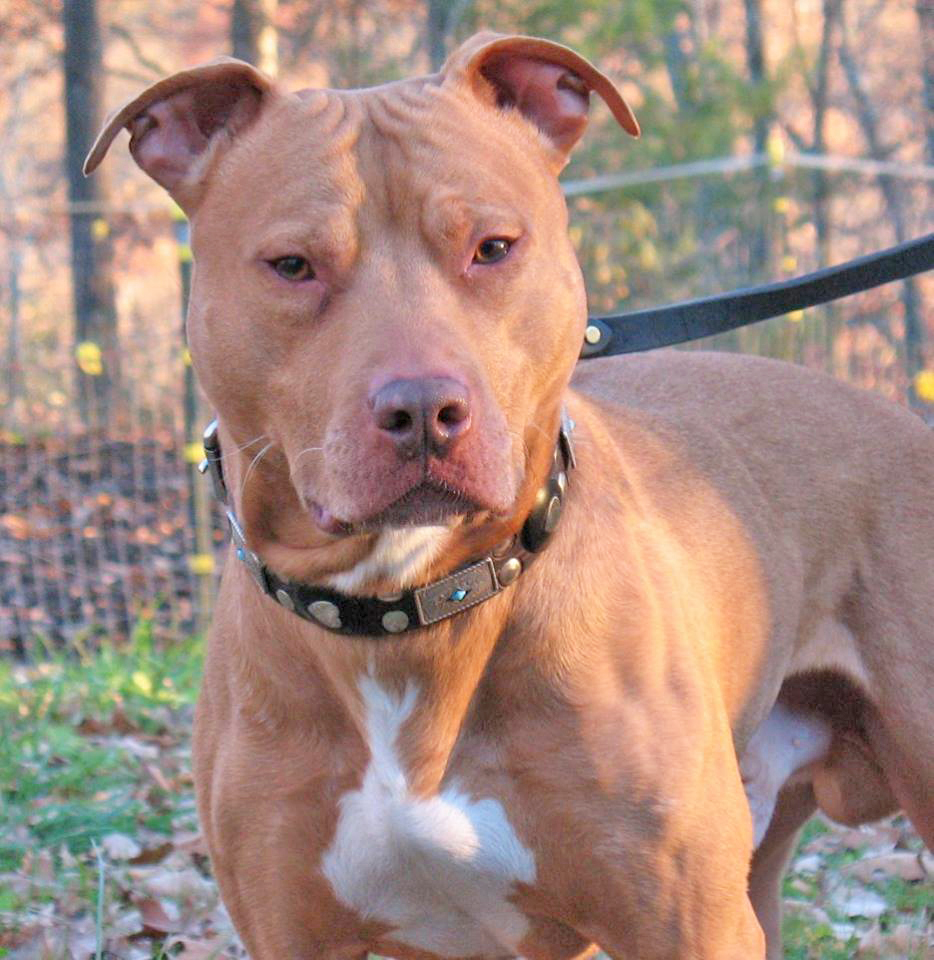am_pit_bull_terrier: (78, 30, 934, 960)
